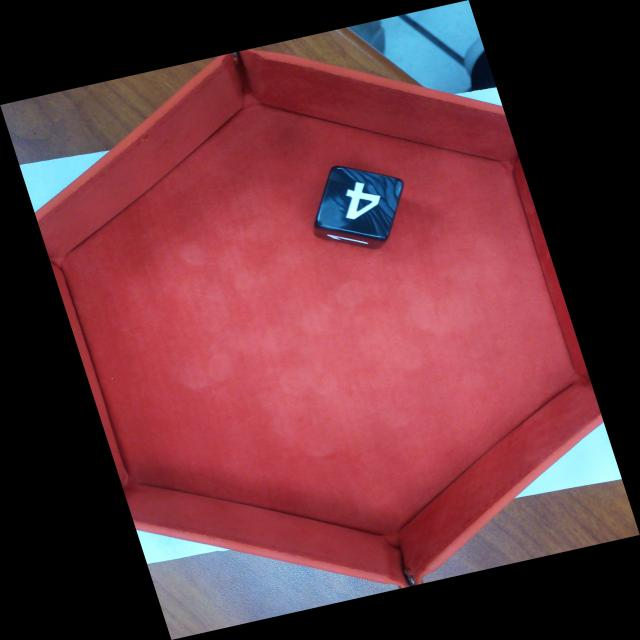dice: (314, 166, 406, 240)
